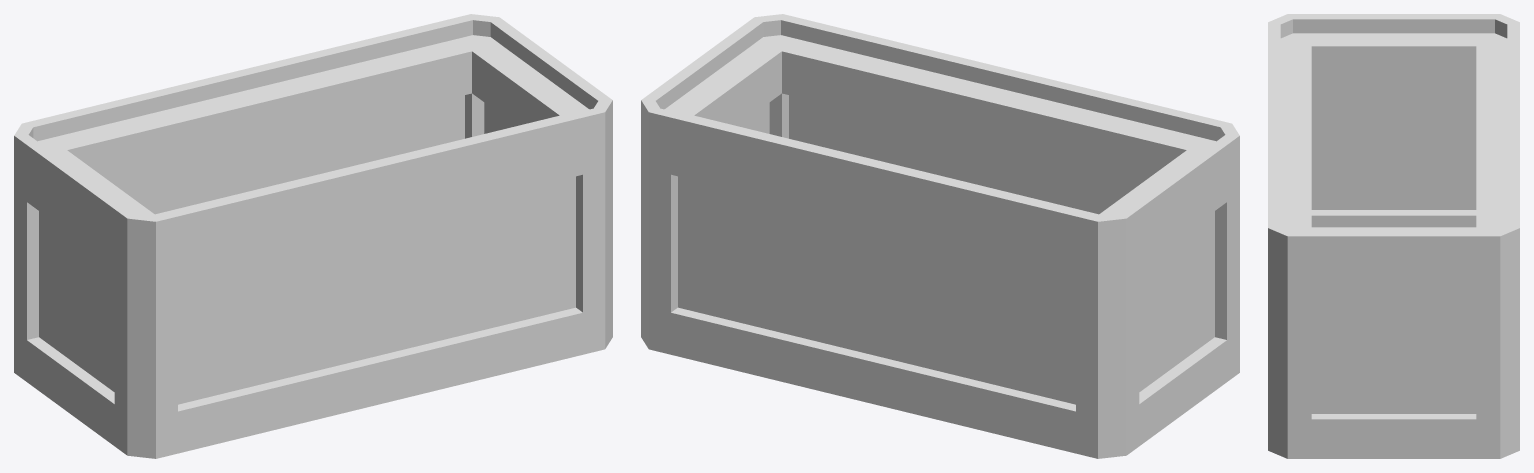
The model's file is Cont_Chest.fbx.
3 renders of one model, left to right at view 1: azimuth 30°, elevation 25°; view 2: azimuth 150°, elevation 25°; view 3: azimuth 270°, elevation 25°, orthographic. The views are drawn at different scales.
Parts seen in each view (by area): view 1: Cont_Chest; view 2: Cont_Chest; view 3: Cont_Chest.
Boxes of the visible parts, <box> form: Cont_Chest: <box>14,14,612,458</box>; Cont_Chest: <box>641,14,1239,458</box>; Cont_Chest: <box>1268,14,1519,458</box>.
Size of the model in its own units: 1.34 by 0.6254 by 0.6414.
